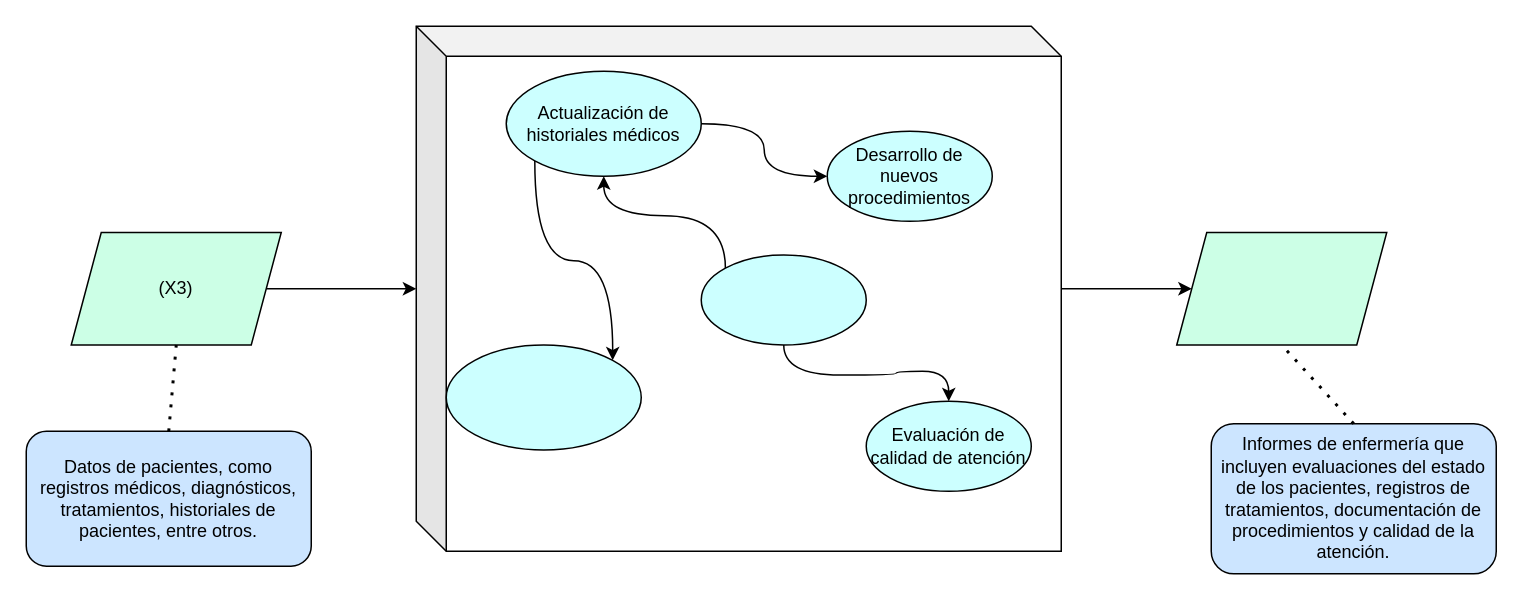
Image size: 1523x600. Some labels were removed from this diagram. Here are the shapes that lost their labels. From the top down, the centre of each, then its label:
(783,299): Atención de pacientes
(1281,288): (Y3) Subsistema de Enfermería
(543,397): Seguimiento de tratamientos
